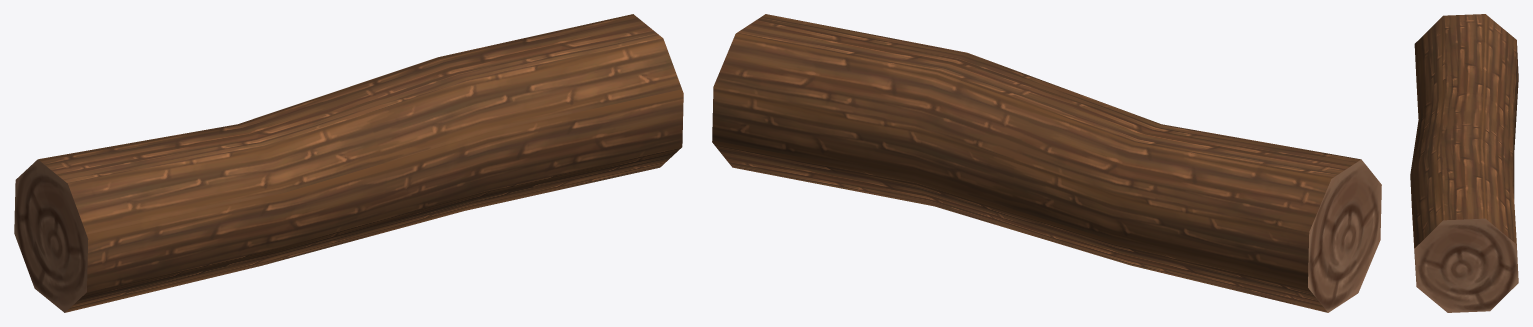
File: log wood.FBX
3 renders of one model, left to right at view 1: azimuth 30°, elevation 25°; view 2: azimuth 150°, elevation 25°; view 3: azimuth 270°, elevation 25°, orthographic. The views are drawn at different scales.
Parts seen in each view (by area): view 1: log wood; view 2: log wood; view 3: log wood.
Boxes of the visible parts, x1=… form: log wood: x1=14, y1=14, x2=683, y2=312; log wood: x1=712, y1=14, x2=1381, y2=312; log wood: x1=1410, y1=14, x2=1518, y2=312.
Size of the model in its own units: 497 by 114 by 111.
1 material, 1 textured.
